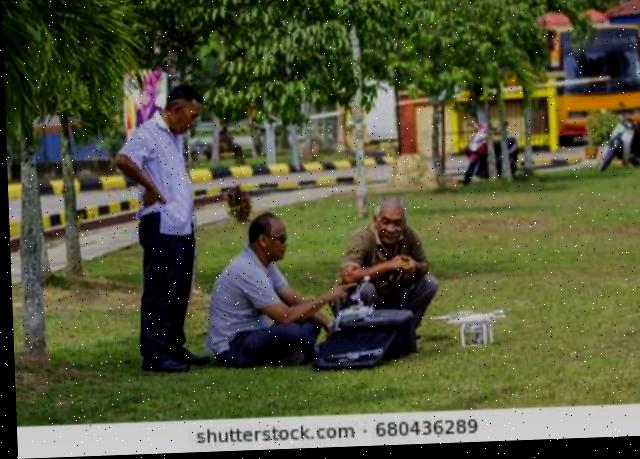drone: (405, 302, 535, 355)
